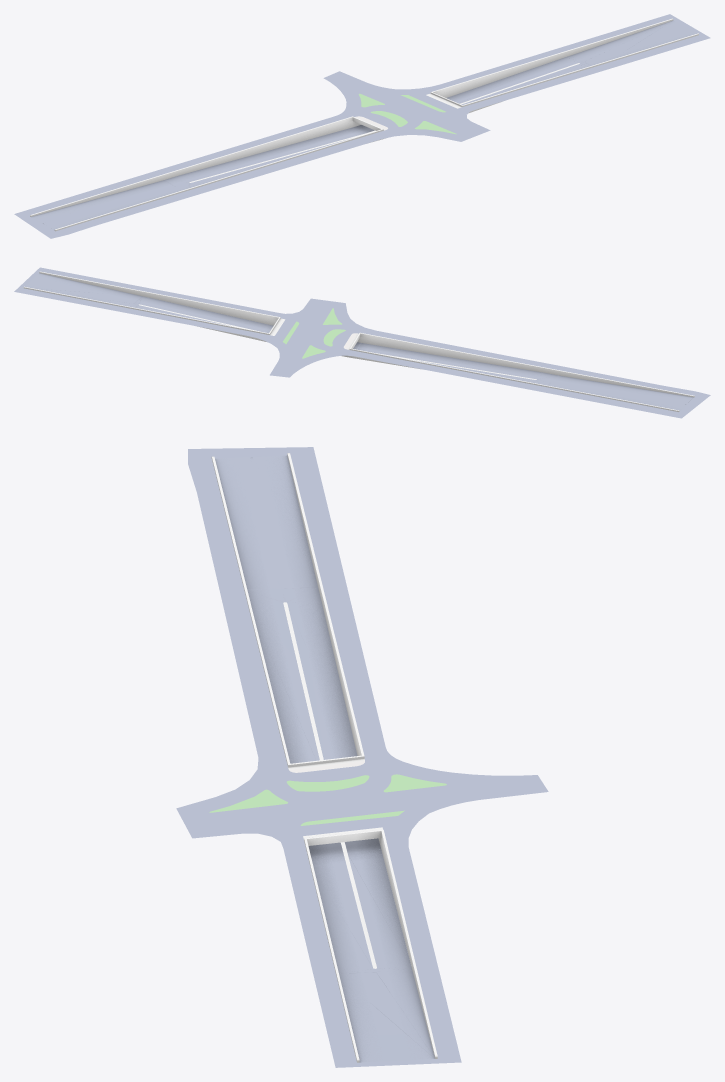
File: Al-Dostyk.glb
The picture shows the model from 3 angles, top to bottom: view 1: azimuth 30°, elevation 25°; view 2: azimuth 150°, elevation 25°; view 3: azimuth 270°, elevation 25°; orthographic projection. The views are drawn at different scales.
Parts seen in each view (by area): view 1: group_5.002, group_4.001, group_1.004, group_2.001; view 2: group_5.002, group_4.001, group_1.004, group_2.001; view 3: group_5.002, group_4.001, group_1.004, group_2.001.
Part boxes in pixels (x1=…): group_5.002: x1=14, y1=14, x2=710, y2=238; group_4.001: x1=31, y1=20, x2=696, y2=230; group_1.004: x1=30, y1=18, x2=698, y2=231; group_2.001: x1=189, y1=63, x2=579, y2=182; group_5.002: x1=14, y1=267, x2=710, y2=418; group_4.001: x1=25, y1=273, x2=693, y2=410; group_1.004: x1=23, y1=271, x2=694, y2=411; group_2.001: x1=139, y1=304, x2=536, y2=379; group_5.002: x1=176, y1=447, x2=548, y2=1067; group_4.001: x1=215, y1=455, x2=434, y2=1062; group_1.004: x1=211, y1=453, x2=437, y2=1062; group_2.001: x1=283, y1=602, x2=376, y2=968.
Size of the model in its own units: 570 by 8 by 144.
Materials: 4 (2 with a texture image).
